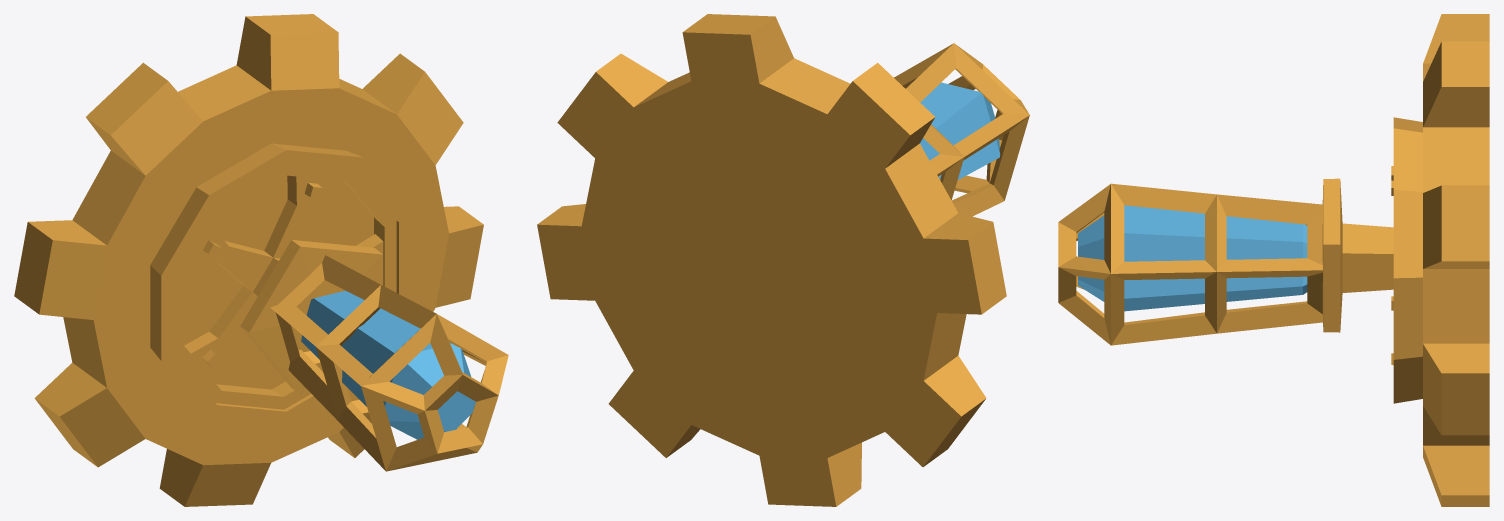
File: SM_Light_Wall_Steampunk.fbx
The picture shows the model from 3 angles, left to right: view 1: azimuth 30°, elevation 25°; view 2: azimuth 150°, elevation 25°; view 3: azimuth 270°, elevation 25°; orthographic projection. The views are drawn at different scales.
Parts seen in each view (by area): view 1: light-wall-steampunk; view 2: light-wall-steampunk; view 3: light-wall-steampunk.
Part boxes in pixels (x1,y1,x2,y2): light-wall-steampunk: (14, 14, 508, 506); light-wall-steampunk: (537, 14, 1029, 506); light-wall-steampunk: (1058, 14, 1489, 506).
Size of the model in its own units: 0.3429 by 0.3429 by 0.3002.
